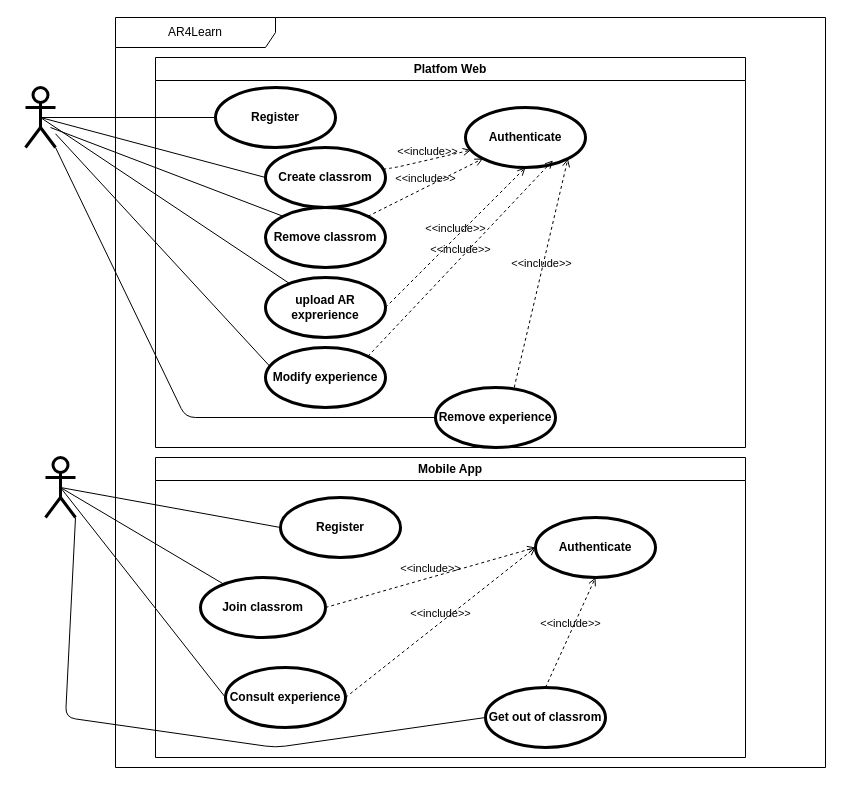
Image size: 843x785. Some labels were removed from this diagram. The centre of each missing label's shape, as x and y in pixels:
"Student" belongs at (60,487).
"Teatcher" belongs at (40,117).
